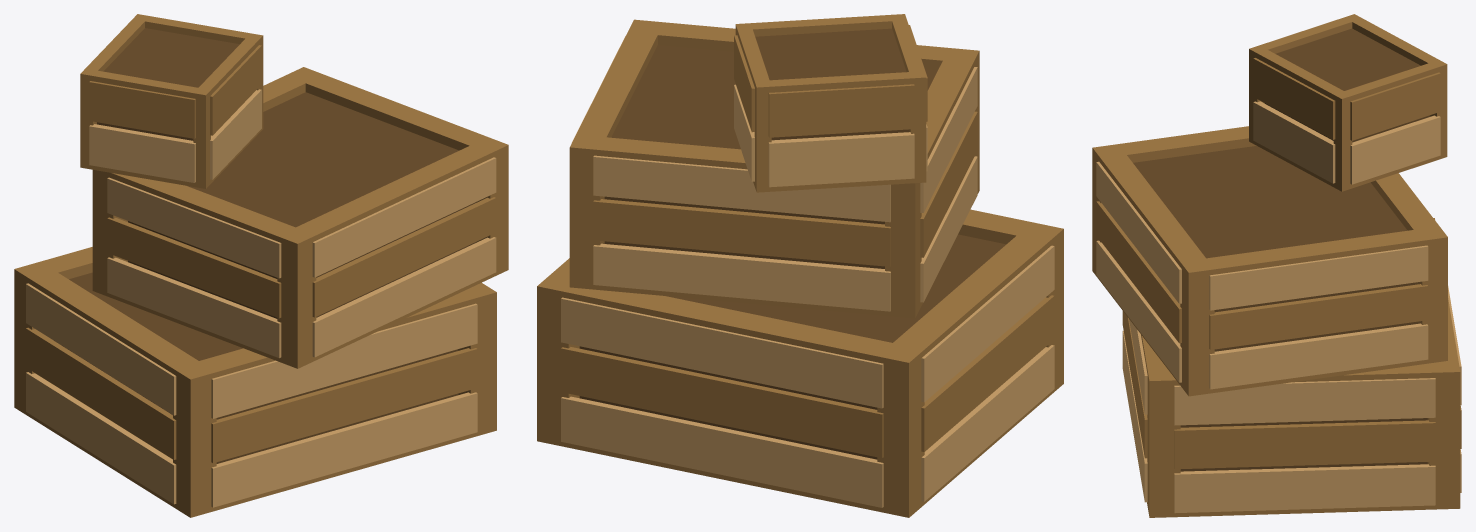
File: CrateStack.fbx
3 renders of one model, left to right at view 1: azimuth 30°, elevation 25°; view 2: azimuth 150°, elevation 25°; view 3: azimuth 270°, elevation 25°, orthographic. The views are drawn at different scales.
Parts seen in each view (by area): view 1: CrateStack; view 2: CrateStack; view 3: CrateStack.
Part boxes in pixels (x1=…): CrateStack: x1=14, y1=14, x2=508, y2=517; CrateStack: x1=537, y1=14, x2=1063, y2=517; CrateStack: x1=1092, y1=14, x2=1461, y2=517.
Bounding box in the file's own units: 174 × 160 × 152.
